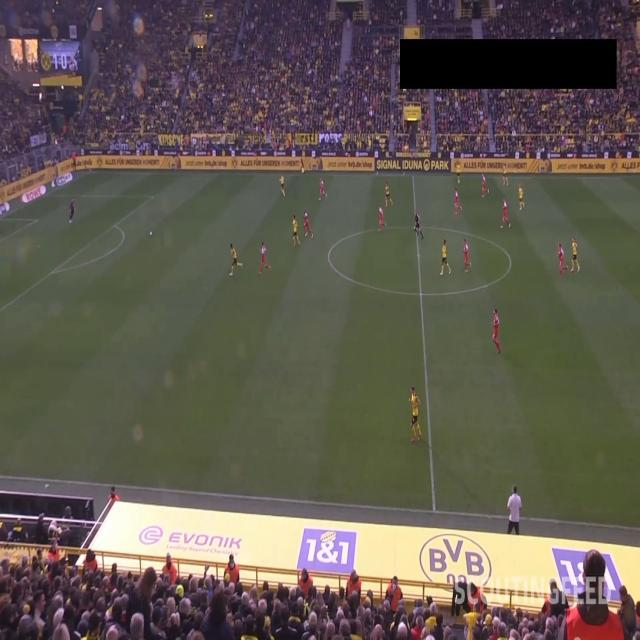ball: (149, 230, 153, 237)
